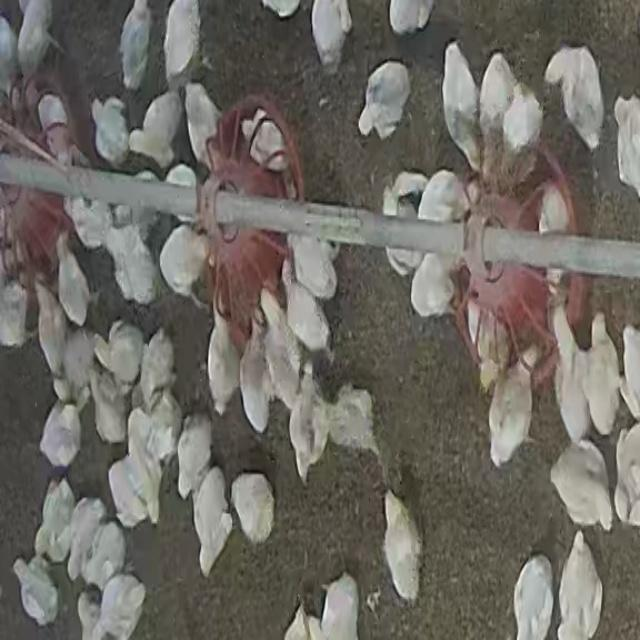chicken: (546, 441, 612, 533), (100, 210, 159, 306), (547, 48, 604, 147), (550, 297, 588, 445), (282, 254, 334, 359), (439, 40, 480, 170), (486, 361, 533, 470), (382, 174, 430, 278), (582, 309, 620, 437), (357, 58, 412, 146), (192, 467, 234, 576), (260, 304, 302, 412), (127, 90, 183, 170), (382, 490, 421, 604), (324, 386, 379, 466), (556, 536, 600, 636), (158, 228, 214, 306), (477, 50, 516, 160), (288, 372, 326, 484), (35, 266, 71, 383), (206, 313, 243, 423), (237, 322, 271, 436), (92, 320, 145, 391), (510, 553, 554, 638), (89, 573, 146, 638), (230, 471, 276, 549), (35, 479, 77, 563), (162, 0, 202, 88), (184, 83, 224, 171), (176, 416, 215, 506), (501, 83, 544, 163), (106, 456, 151, 532), (82, 518, 128, 592), (56, 230, 91, 327), (35, 92, 78, 170), (409, 251, 456, 321), (61, 327, 101, 409), (88, 367, 128, 448), (13, 556, 59, 626), (243, 108, 291, 174), (413, 169, 466, 228), (138, 330, 176, 412), (16, 0, 58, 74), (118, 0, 152, 91), (311, 1, 353, 72), (90, 95, 130, 169), (473, 308, 507, 393), (39, 404, 81, 472), (65, 192, 110, 250), (144, 391, 181, 457)
